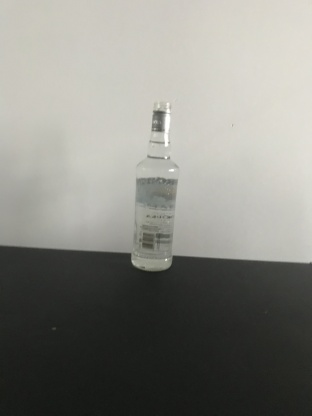nakretka: (149, 98, 172, 133)
